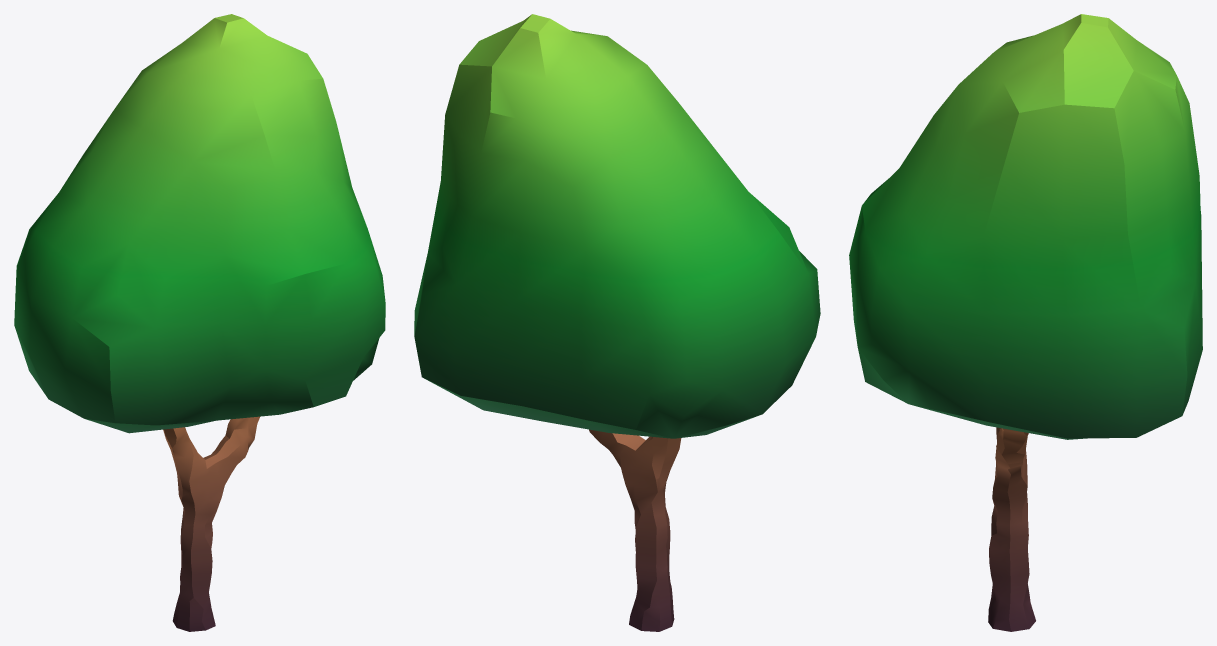
The model's file is Tree4.fbx.
3 views of the same model, side by side, from view 1: azimuth 30°, elevation 25°; view 2: azimuth 150°, elevation 25°; view 3: azimuth 270°, elevation 25° (orthographic). The views are drawn at different scales.
Parts seen in each view (by area): view 1: Tree4; view 2: Tree4; view 3: Tree4.
Boxes of the visible parts, x1,y1,x2,y2 form: Tree4: (14, 14, 385, 631); Tree4: (414, 14, 820, 631); Tree4: (849, 14, 1202, 631).
Bounding box in the file's own units: 5.81 × 10.03 × 5.
